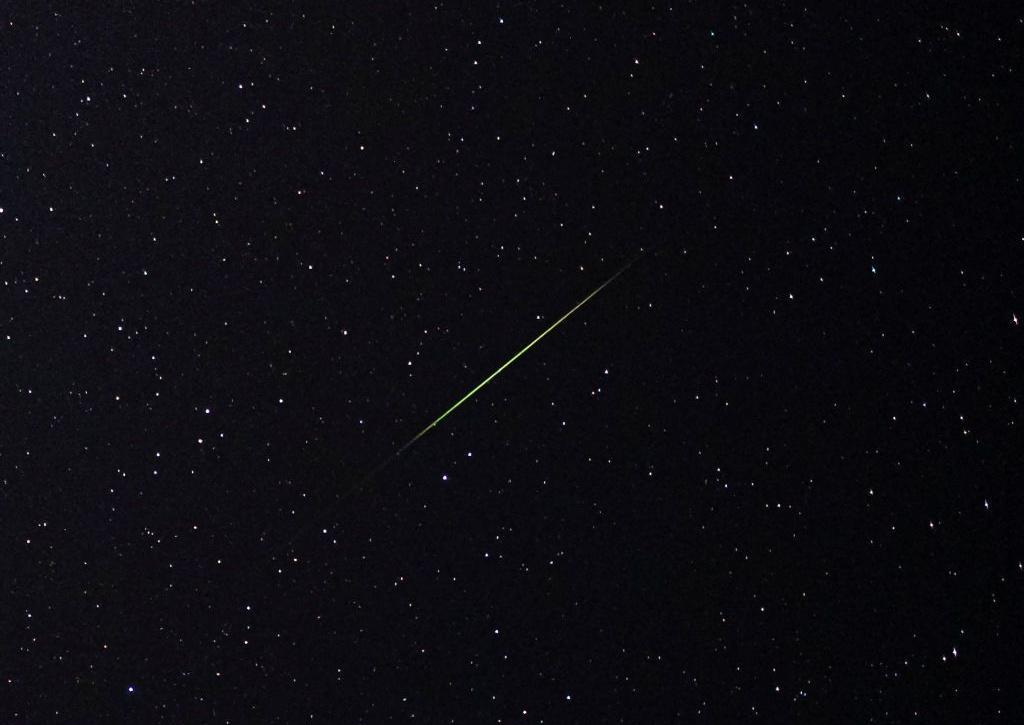meteorite: (380, 309, 579, 481)
